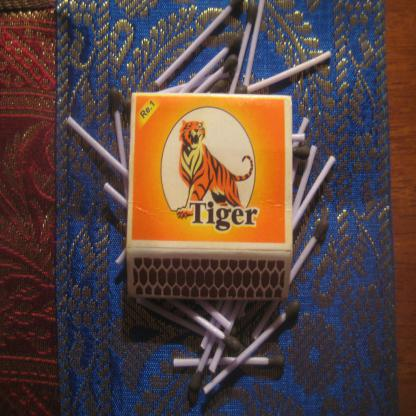Tiger: (174, 121, 254, 219)
